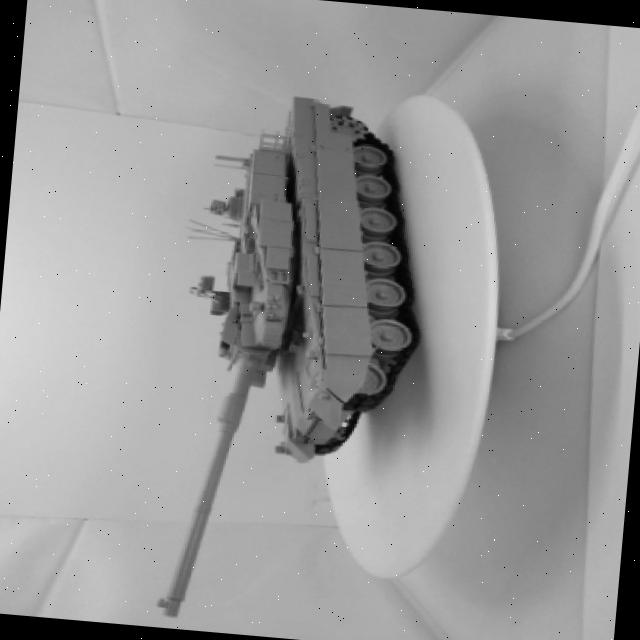korea tank: (142, 44, 453, 640)
